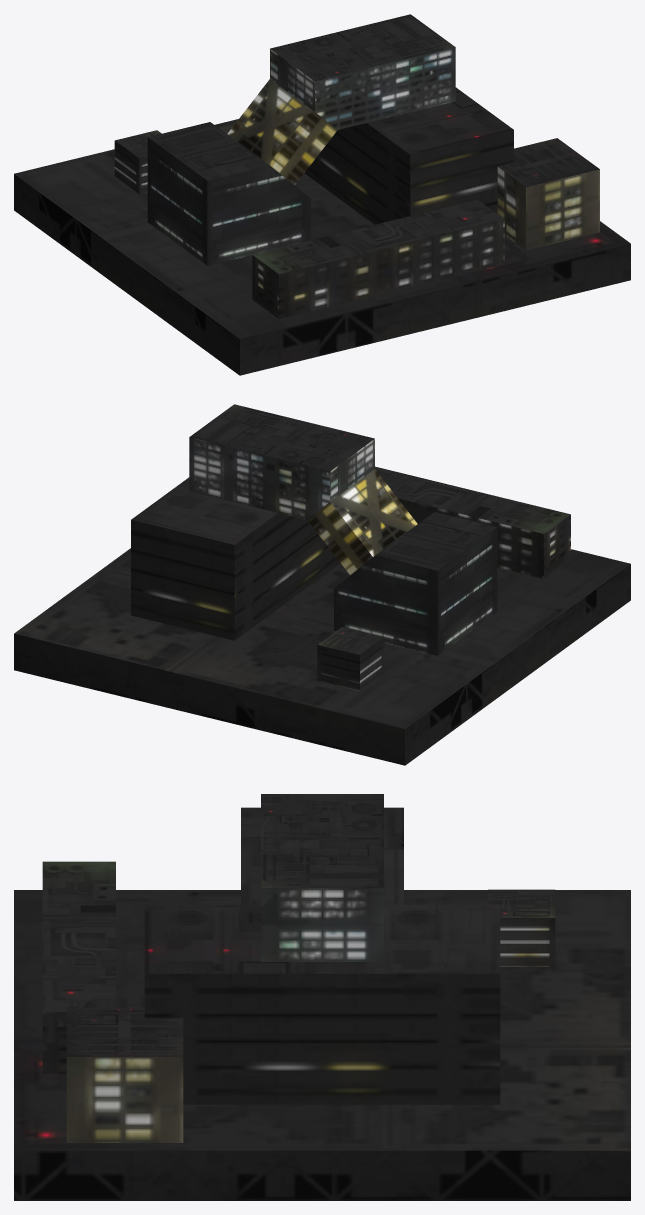
Rendered from scifi_building_39.obj.
3 renders of one model, top to bottom at view 1: azimuth 30°, elevation 25°; view 2: azimuth 150°, elevation 25°; view 3: azimuth 270°, elevation 25°, orthographic. The views are drawn at different scales.
Visible parts, largest first — view 1: building_39; view 2: building_39; view 3: building_39.
Boxes of the visible parts, x1=… form: building_39: x1=14, y1=14, x2=630, y2=375; building_39: x1=14, y1=404, x2=630, y2=765; building_39: x1=14, y1=794, x2=630, y2=1200.
Size of the model in its own units: 119 by 54.67 by 119.
1 material, 1 textured.
